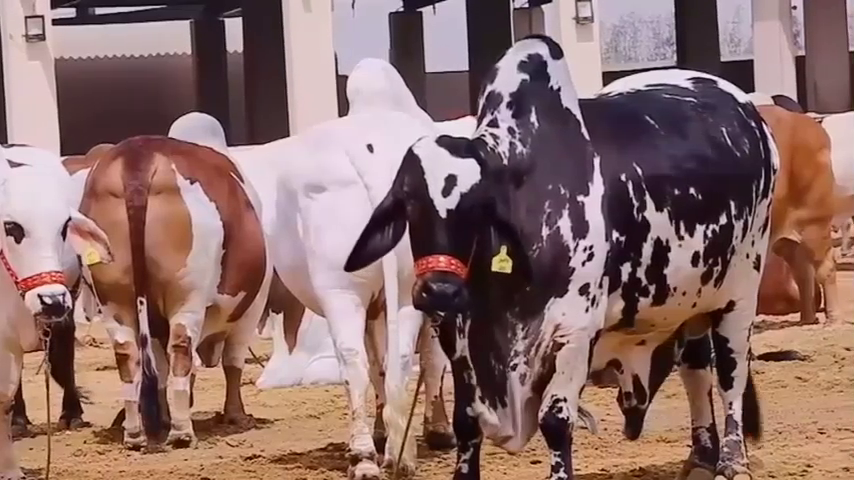bo: (340, 32, 777, 479), (256, 67, 457, 475), (67, 129, 273, 457), (2, 139, 123, 479), (733, 87, 847, 333)
